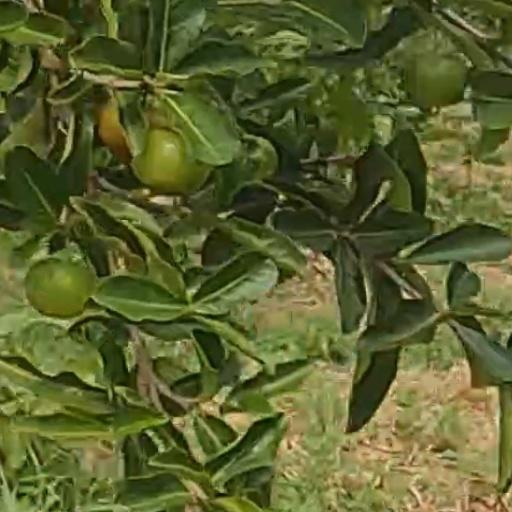acerola: (139, 133, 206, 191), (28, 262, 94, 317), (408, 55, 463, 104), (102, 104, 130, 157)
